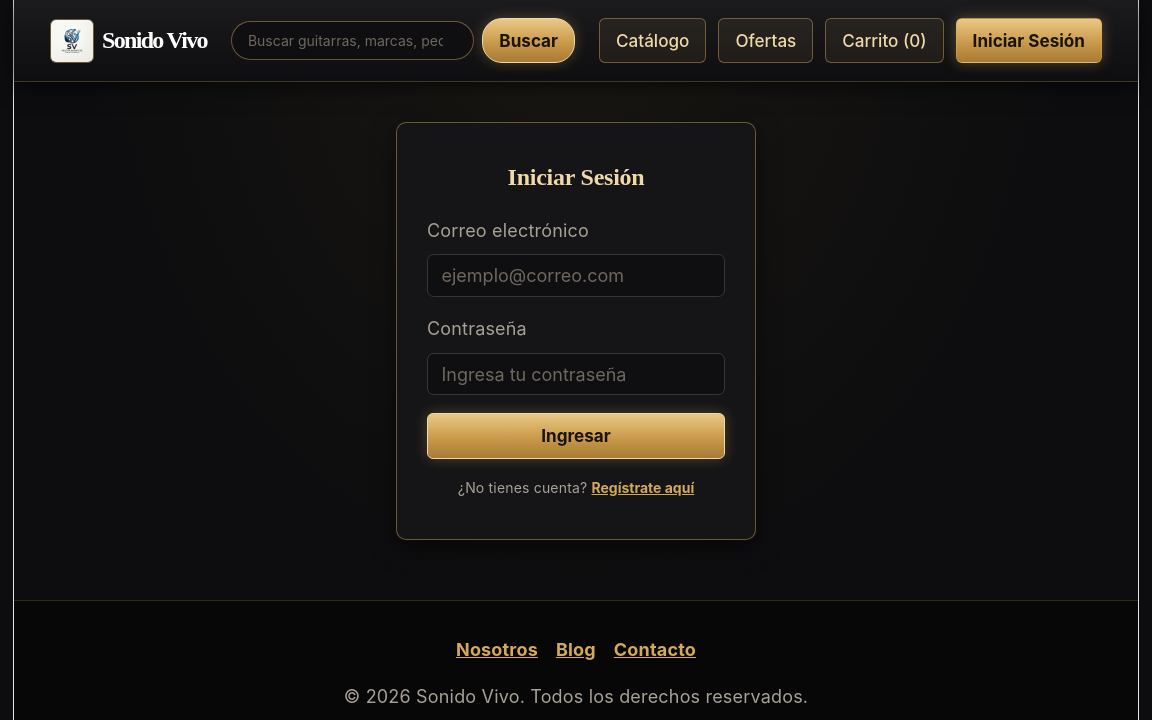
Test: Página Login › avisa si el correo o la contraseña son incorrectos (401)
Type "cliente@correo.cl" into the field labelled "Correo electrónico". click: (576, 276)
box: [427, 254, 725, 297]
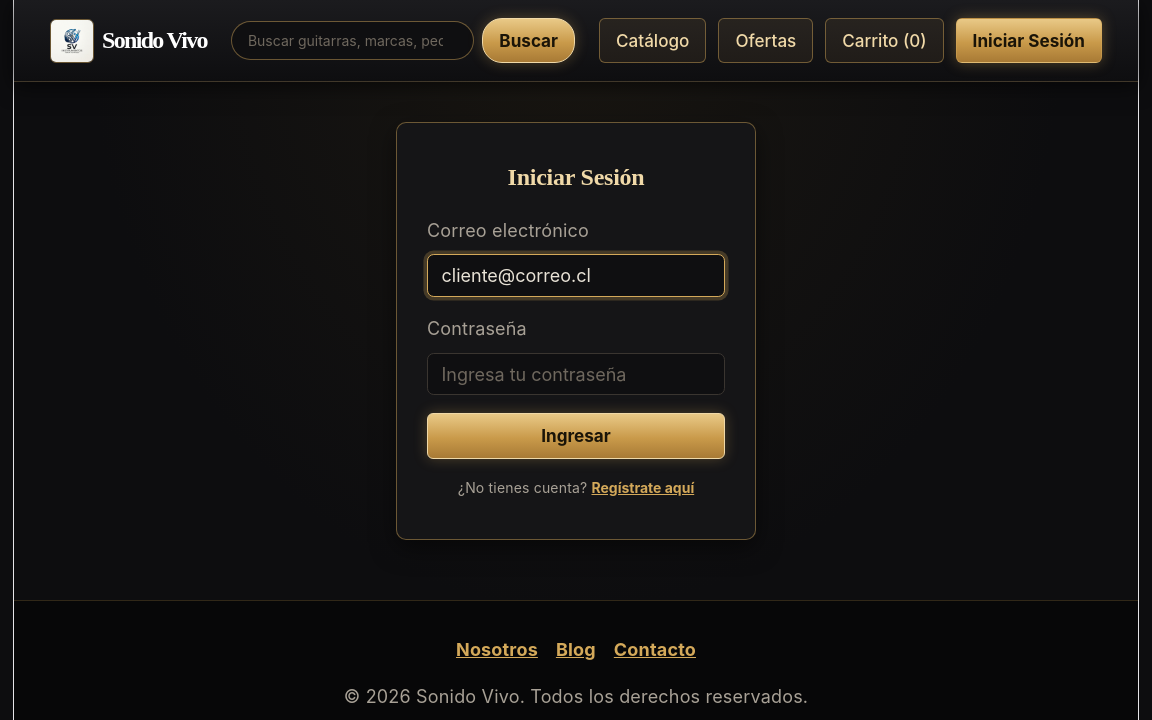
Type "claveMala" into the password field labelled "Contraseña". click: (576, 374)
box: [427, 353, 725, 395]
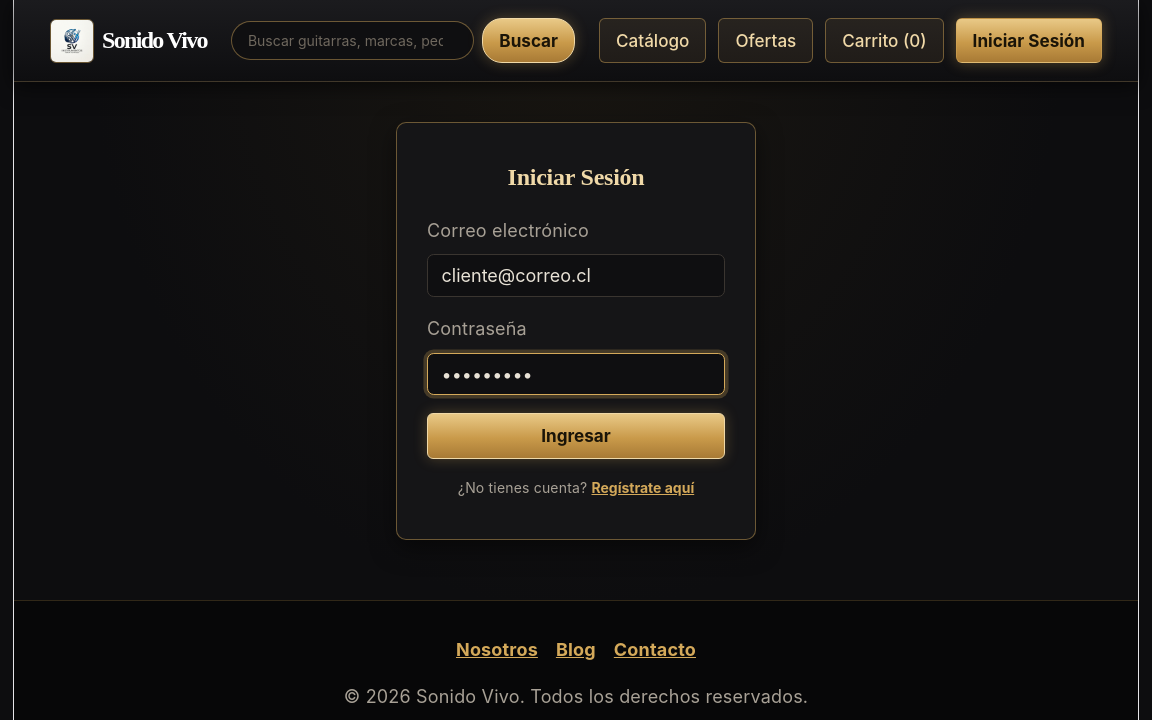
Click the button "Ingresar". click: (576, 436)
box: [427, 413, 725, 459]
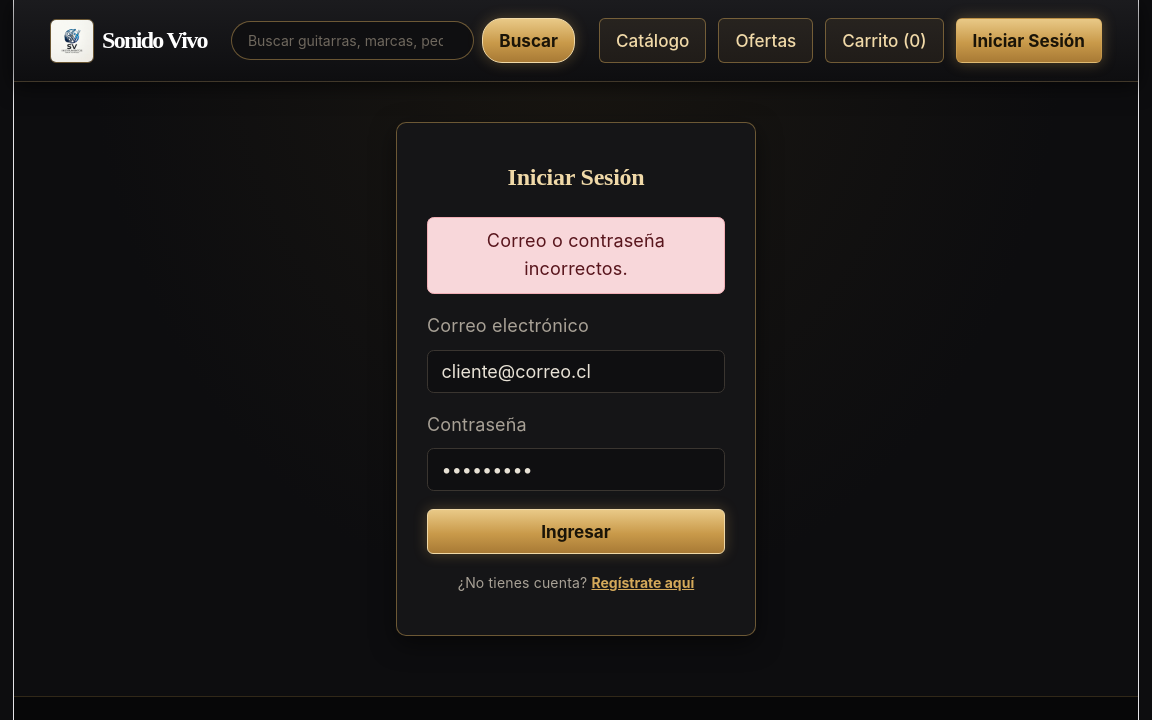
Now the text "Correo o contraseña incorrectos." is shown, box [427, 217, 725, 294]
